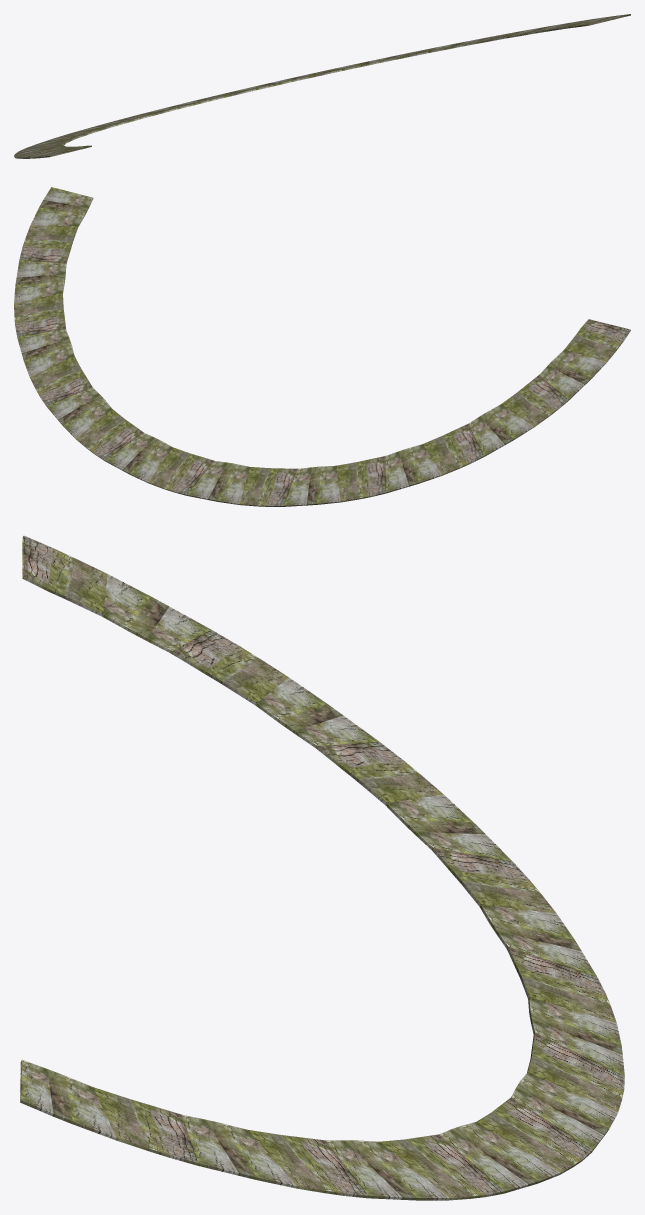
The model's file is rampe_010_colider.fbx.
The picture shows the model from 3 angles, top to bottom: view 1: azimuth 30°, elevation 25°; view 2: azimuth 150°, elevation 25°; view 3: azimuth 270°, elevation 25°; orthographic projection. The views are drawn at different scales.
Parts seen in each view (by area): view 1: Ramp_010; view 2: Ramp_010; view 3: Ramp_010.
Boxes of the visible parts, x1,y1,x2,y2 form: Ramp_010: [14, 14, 630, 158]; Ramp_010: [14, 187, 630, 506]; Ramp_010: [20, 535, 624, 1200].
Size of the model in its own units: 1377 by 292 by 622.
